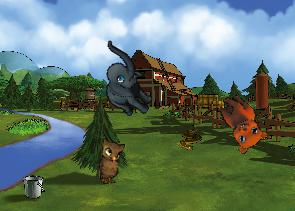bear: (204, 89, 274, 158)
elephant: (81, 39, 169, 123)
owl: (97, 136, 128, 185)
